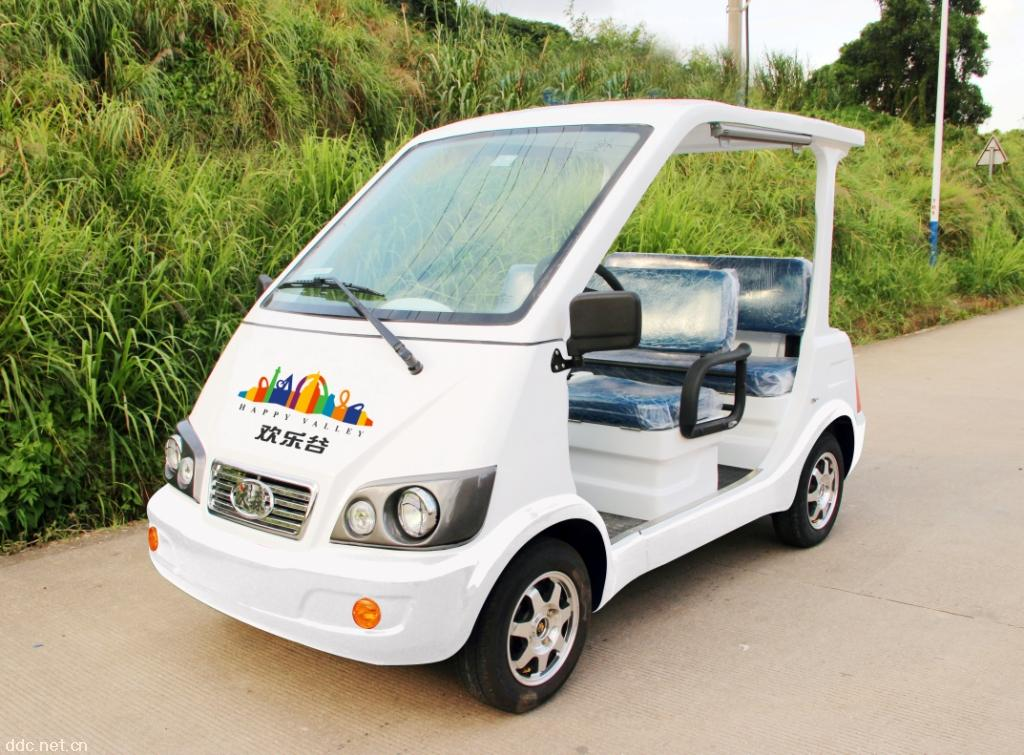MNV: (145, 97, 865, 714)
